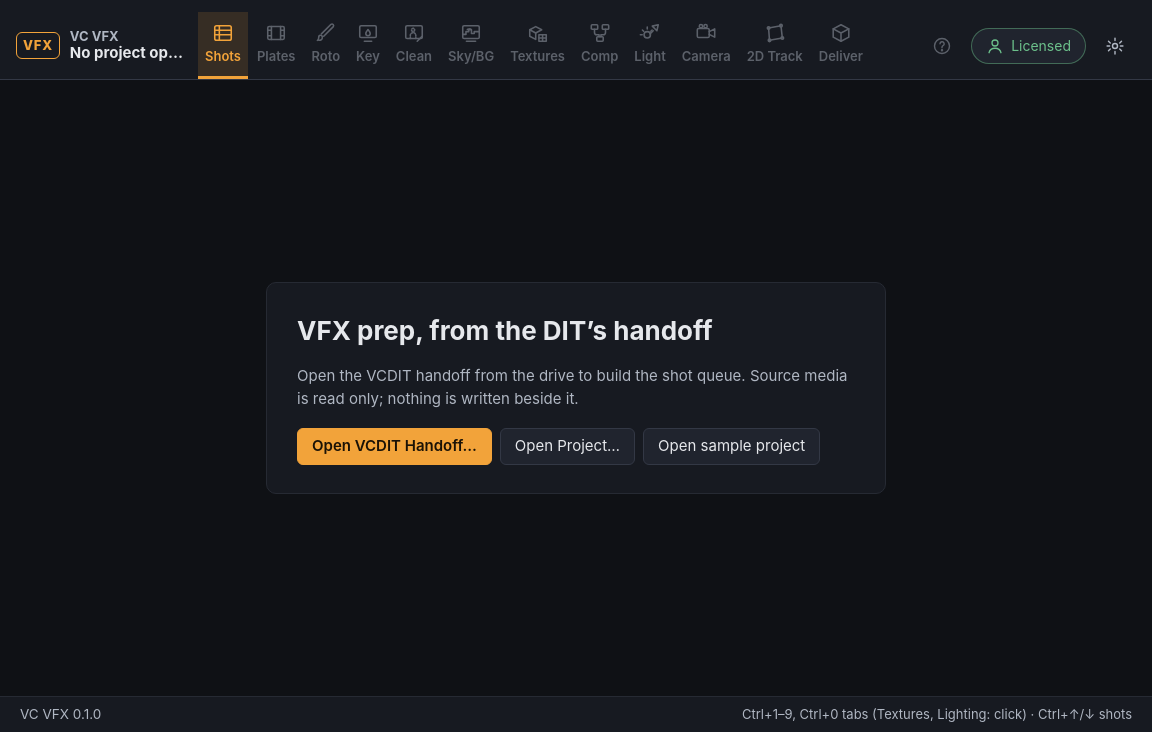
Test: shot queue › moves the selection with the arrow keys
Click the button "Open sample project" at x=732, y=447, box [643, 428, 820, 465]
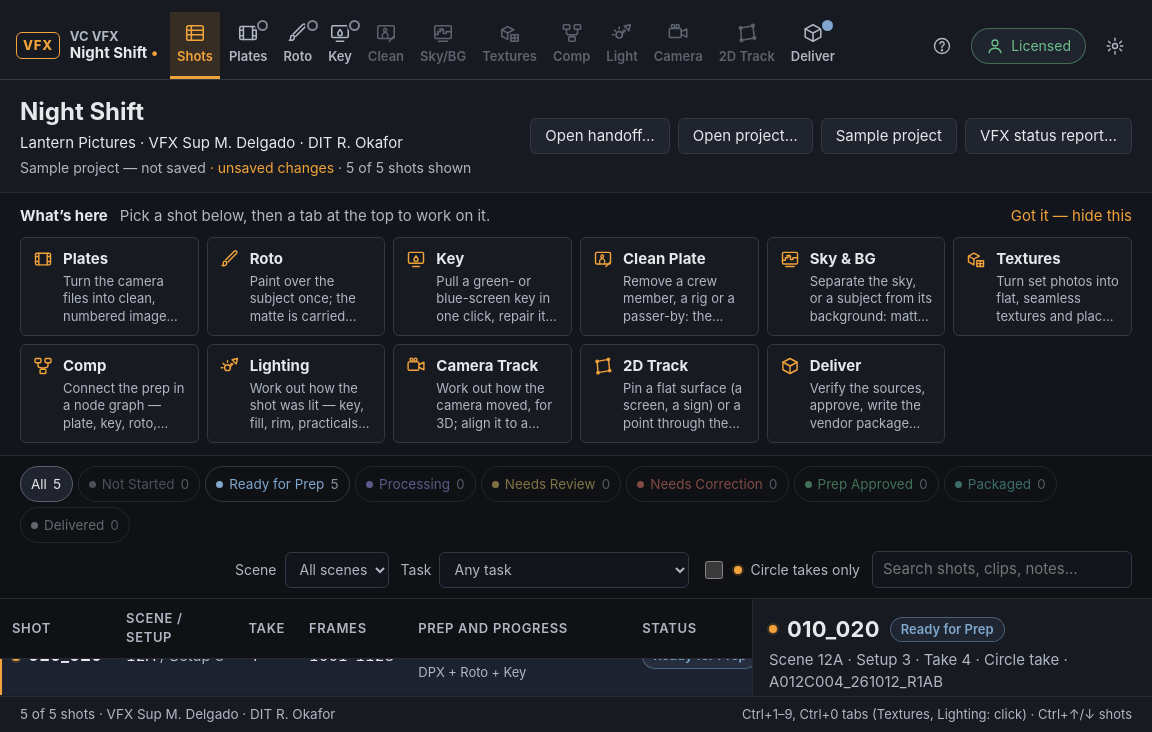
Press ArrowDown
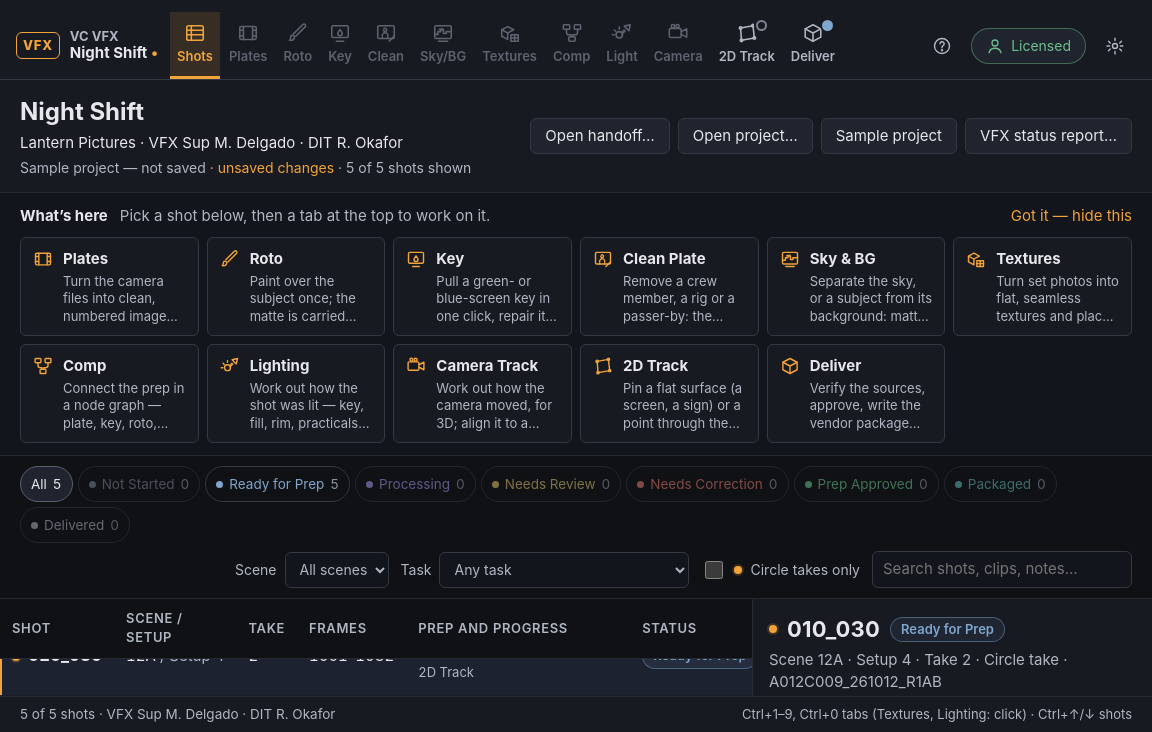
Now the heading "010_030" is shown, box [787, 613, 880, 646]
